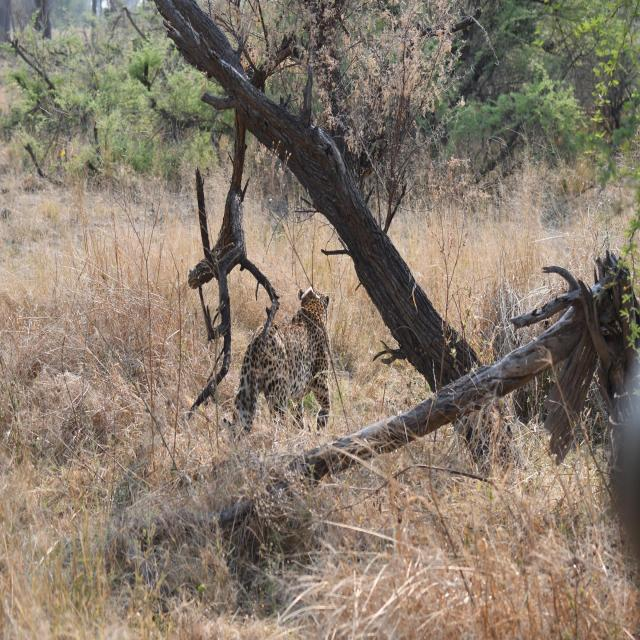Leopard: (234, 290, 337, 438)
